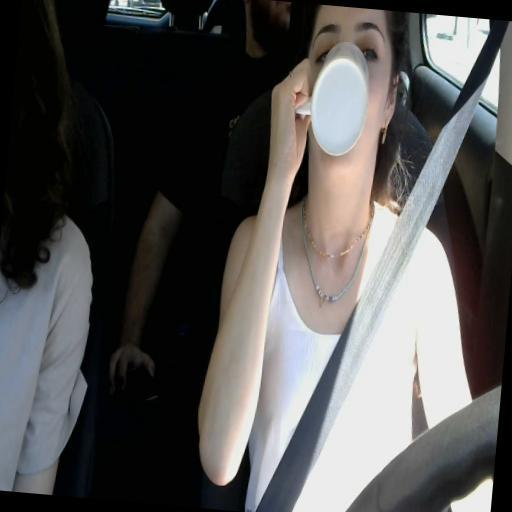Drinking: (271, 0, 397, 160)
